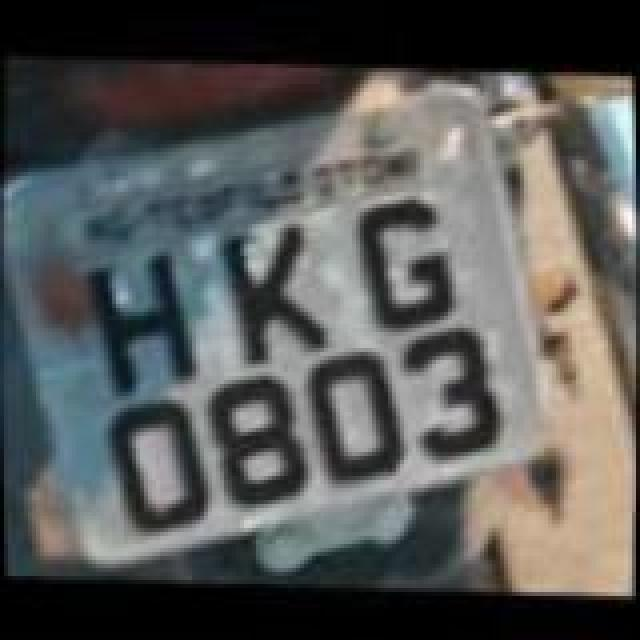3: (400, 320, 512, 468)
8: (202, 368, 314, 508)
G: (352, 184, 472, 328)
H: (82, 242, 202, 398)
K: (214, 216, 338, 372)
O: (302, 338, 422, 482), (100, 392, 216, 536)
